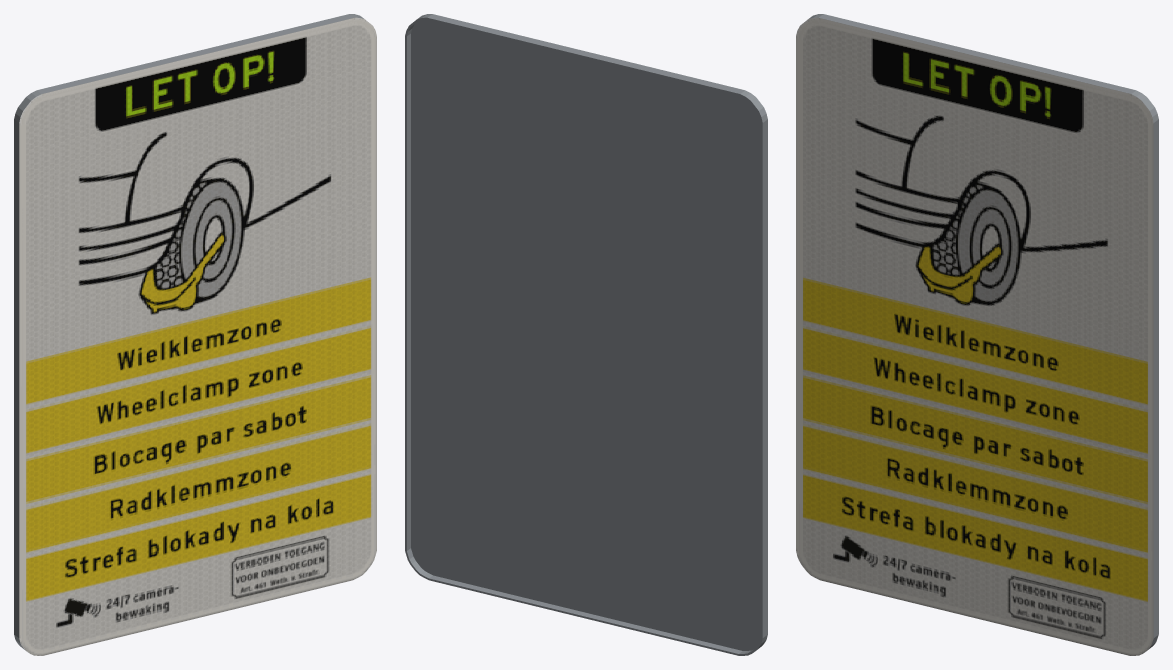
3 views of the same model, side by side, from view 1: azimuth 30°, elevation 25°; view 2: azimuth 150°, elevation 25°; view 3: azimuth 330°, elevation 25° (orthographic).
Parts seen in each view (by area): view 1: cat_6ceda813bb3eba69; view 2: cat_6ceda813bb3eba69; view 3: cat_6ceda813bb3eba69.
Boxes of the visible parts, x1,y1,x2,y2 form: cat_6ceda813bb3eba69: (14, 14, 376, 655); cat_6ceda813bb3eba69: (405, 14, 767, 655); cat_6ceda813bb3eba69: (796, 14, 1158, 655).
Size of the model in its own units: 0.6 by 0.015 by 0.9011.
2 materials, 1 textured.
